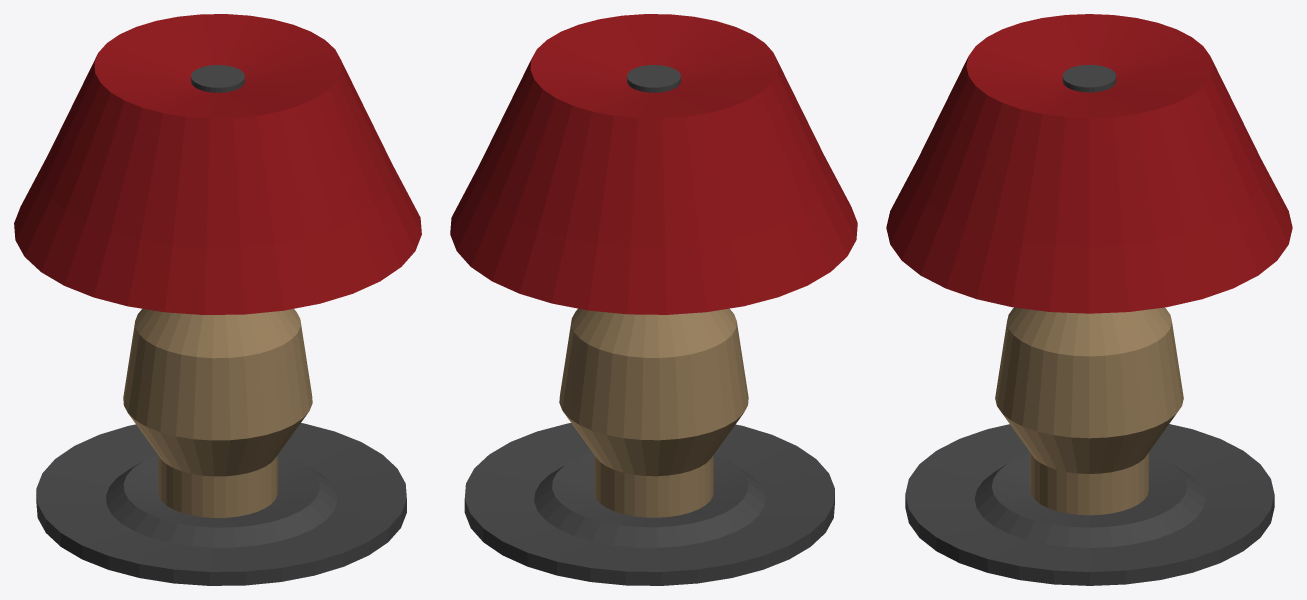
The model's file is Lamp.fbx.
3 renders of one model, left to right at view 1: azimuth 30°, elevation 25°; view 2: azimuth 150°, elevation 25°; view 3: azimuth 270°, elevation 25°, orthographic.
Visible parts, largest first — view 1: Cube.001; view 2: Cube.001; view 3: Cube.001.
Part boxes in pixels (<box>): Cube.001: <box>14,14,421,585</box>; Cube.001: <box>450,14,857,585</box>; Cube.001: <box>886,14,1292,585</box>.
Bounding box in the file's own units: 86.51 × 103 × 86.51.
